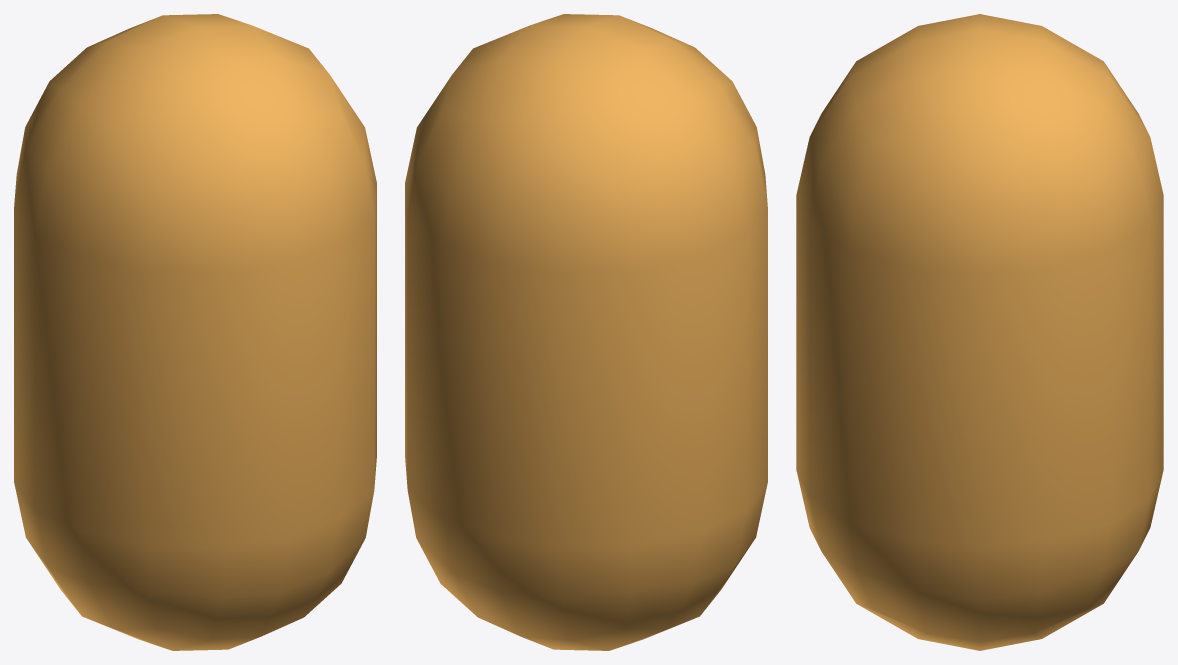
3 renders of one model, left to right at view 1: azimuth 30°, elevation 25°; view 2: azimuth 150°, elevation 25°; view 3: azimuth 270°, elevation 25°, orthographic.
Visible parts, largest first — view 1: Capsule_02; view 2: Capsule_02; view 3: Capsule_02.
Boxes of the visible parts, x1,y1,x2,y2 form: Capsule_02: [14, 14, 376, 650]; Capsule_02: [405, 14, 767, 650]; Capsule_02: [796, 14, 1163, 650].
Size of the model in its own units: 222 by 404 by 222.
